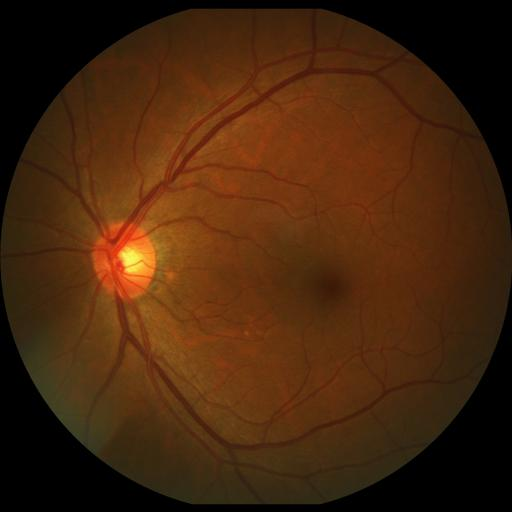Optic Cup: (112, 247, 144, 272)
Optic Disc: (90, 222, 155, 301)
